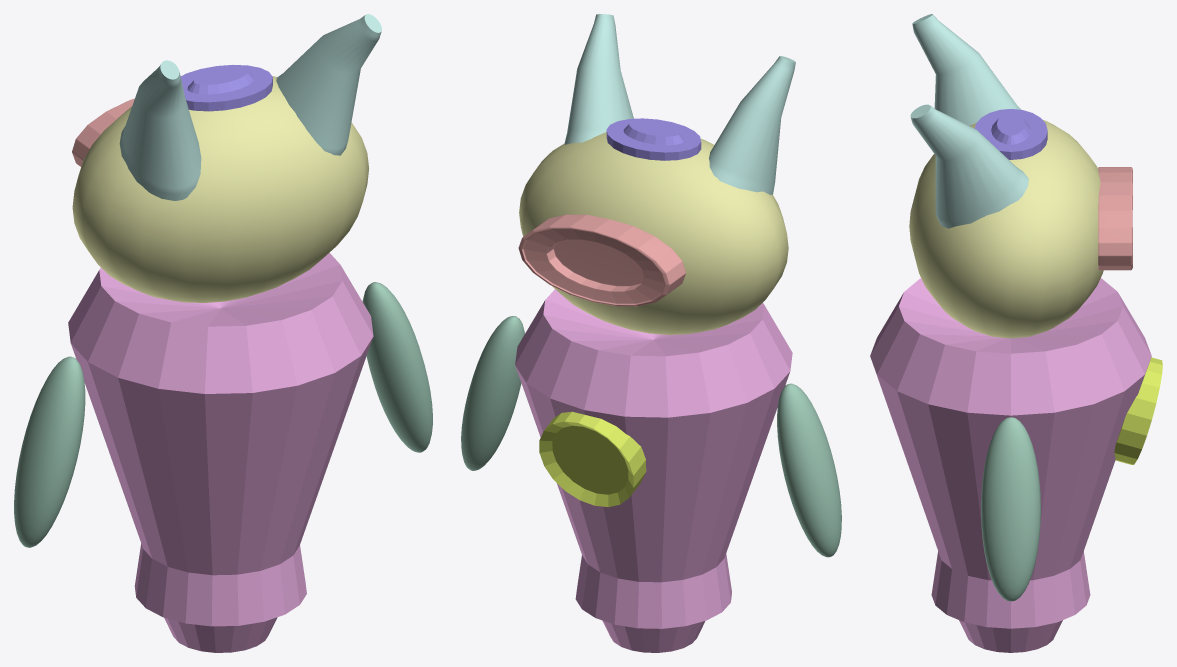
The model's file is zhujue.fbx.
The picture shows the model from 3 angles, left to right: view 1: azimuth 30°, elevation 25°; view 2: azimuth 150°, elevation 25°; view 3: azimuth 270°, elevation 25°; orthographic projection. The views are drawn at different scales.
Visible parts, largest first — view 1: pCylinder1, pSphere1, pSphere3, pCylinder6, pCylinder5, pSphere2, pCylinder7, pCylinder4; view 2: pCylinder1, pSphere1, pCylinder4, pCylinder2, pSphere3, pCylinder6, pSphere2, pCylinder5, pCylinder7; view 3: pCylinder1, pSphere1, pSphere2, pCylinder5, pCylinder6, pCylinder4, pCylinder7, pCylinder2.
Boxes of the visible parts, x1=… form: pCylinder1: x1=68, y1=253, x2=373, y2=652; pSphere1: x1=72, y1=76, x2=368, y2=302; pSphere3: x1=14, y1=356, x2=85, y2=547; pCylinder6: x1=119, y1=60, x2=201, y2=200; pCylinder5: x1=276, y1=14, x2=381, y2=155; pSphere2: x1=362, y1=282, x2=432, y2=452; pCylinder7: x1=180, y1=65, x2=272, y2=111; pCylinder4: x1=72, y1=98, x2=134, y2=166; pCylinder1: x1=515, y1=289, x2=792, y2=652; pSphere1: x1=519, y1=132, x2=788, y2=334; pCylinder4: x1=518, y1=214, x2=685, y2=306; pCylinder2: x1=539, y1=411, x2=646, y2=507; pSphere3: x1=777, y1=383, x2=841, y2=557; pCylinder6: x1=709, y1=56, x2=795, y2=194; pSphere2: x1=461, y1=316, x2=524, y2=470; pCylinder5: x1=564, y1=14, x2=633, y2=144; pCylinder7: x1=606, y1=118, x2=701, y2=160; pCylinder1: x1=870, y1=278, x2=1151, y2=652; pSphere1: x1=909, y1=120, x2=1103, y2=338; pSphere2: x1=981, y1=417, x2=1040, y2=601; pCylinder5: x1=910, y1=104, x2=1028, y2=228; pCylinder6: x1=912, y1=14, x2=1020, y2=125; pCylinder4: x1=1098, y1=167, x2=1132, y2=270; pCylinder7: x1=974, y1=109, x2=1047, y2=159; pCylinder2: x1=1114, y1=357, x2=1162, y2=464.
Size of the model in its own units: 2.93 by 4.27 by 1.97.
